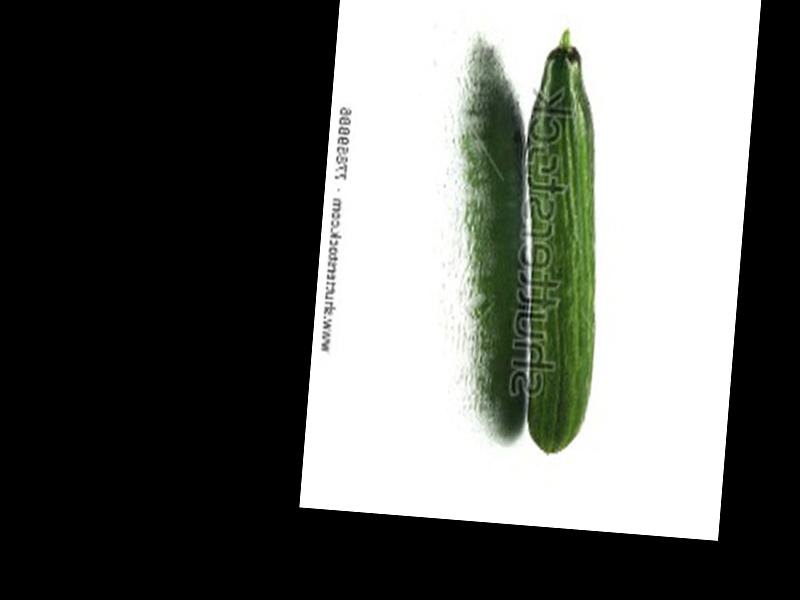Cucumber: (502, 28, 620, 453)
